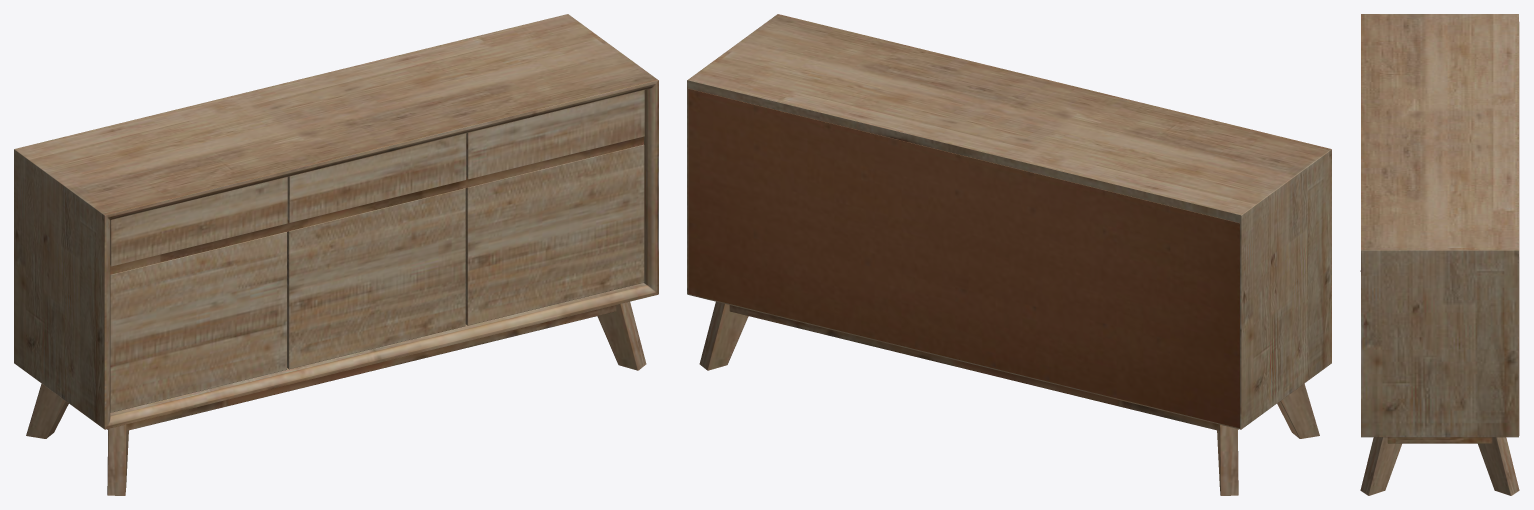
File: B07HSLVMP2.glb
The picture shows the model from 3 angles, left to right: view 1: azimuth 30°, elevation 25°; view 2: azimuth 150°, elevation 25°; view 3: azimuth 270°, elevation 25°; orthographic projection. The views are drawn at different scales.
Visible parts, largest first — view 1: RootNode; view 2: RootNode; view 3: RootNode.
Part boxes in pixels (bbox=[...]): RootNode: bbox=[14, 14, 658, 495]; RootNode: bbox=[687, 14, 1331, 495]; RootNode: bbox=[1360, 14, 1519, 495].
Size of the model in its own units: 1.6 by 0.7881 by 0.4554.
Materials: 1 (1 with a texture image).
